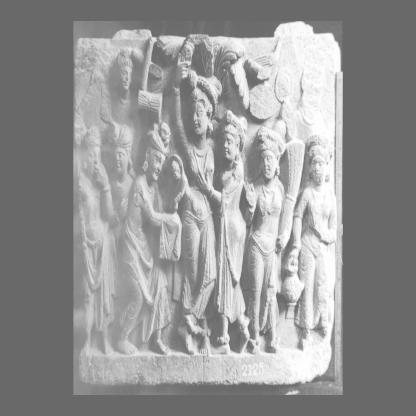buddha-standing: (172, 37, 222, 354)
